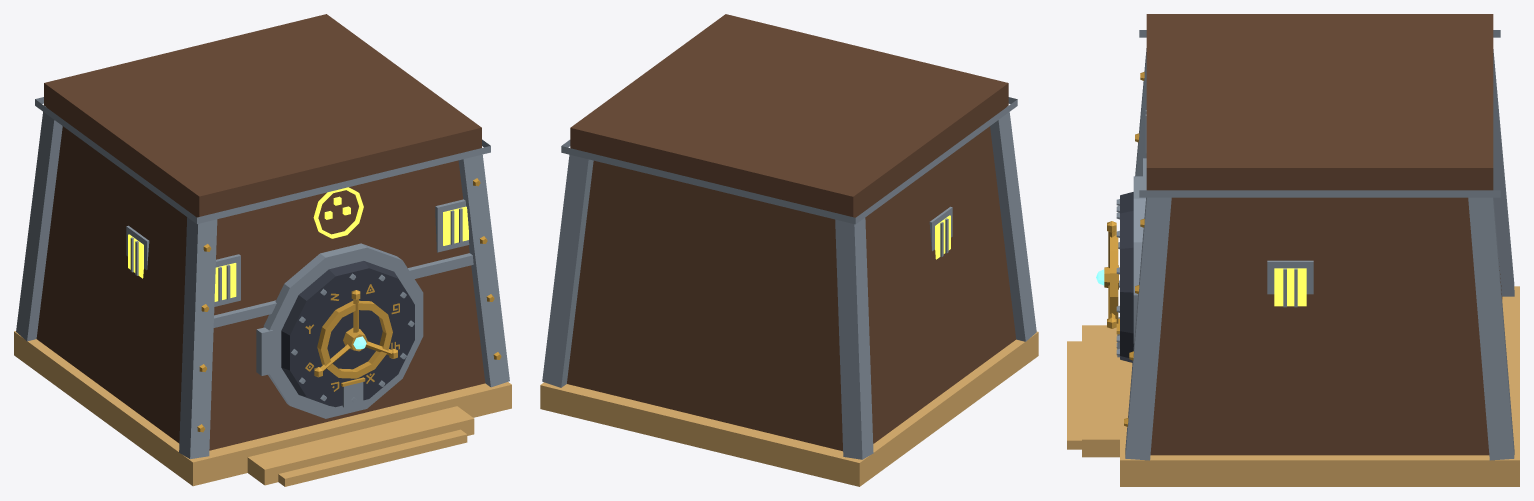
File: Bldg_Bank.fbx
The picture shows the model from 3 angles, left to right: view 1: azimuth 30°, elevation 25°; view 2: azimuth 150°, elevation 25°; view 3: azimuth 270°, elevation 25°; orthographic projection. The views are drawn at different scales.
Parts seen in each view (by area): view 1: Bldg_Bank_Body, Bldg_Bank_Vault_Door, Bldg_Bank_Dial, Bldg_Bank_Pet_Flap; view 2: Bldg_Bank_Body; view 3: Bldg_Bank_Body, Bldg_Bank_Vault_Door, Bldg_Bank_Dial.
Boxes of the visible parts, x1,y1,x2,y2 form: Bldg_Bank_Body: (14,14,511,486); Bldg_Bank_Vault_Door: (256,261,414,407); Bldg_Bank_Dial: (305,284,399,391); Bldg_Bank_Pet_Flap: (341,377,365,407); Bldg_Bank_Body: (540,14,1038,486); Bldg_Bank_Body: (1067,14,1519,486); Bldg_Bank_Vault_Door: (1116,192,1133,362); Bldg_Bank_Dial: (1096,221,1118,328).
Bounding box in the file's own units: 7.02 × 5.8 × 7.7.
